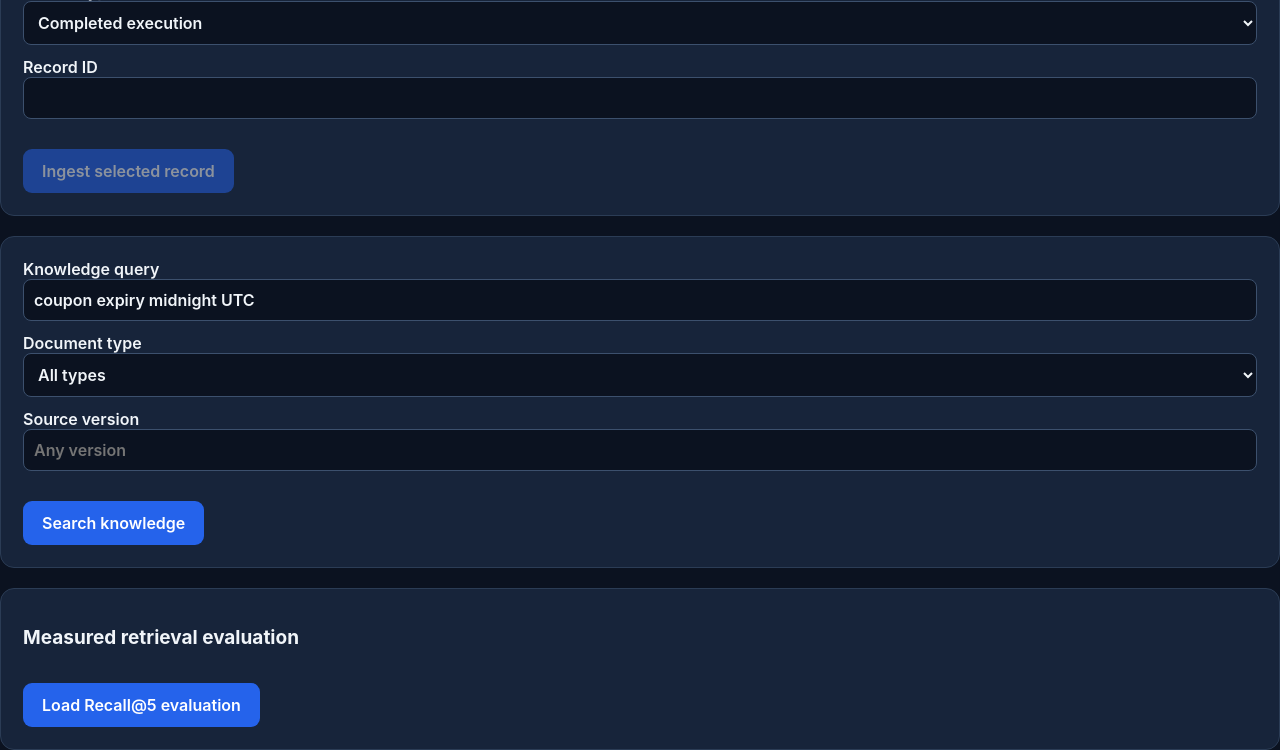
it: retrieval evaluation displays actual recall and precision
The width and height of the screenshot is (1280, 750).
(page scrolled)
Click the button "Load Recall@5 evaluation": (141, 705) [23,683,260,727]
(page scrolled)
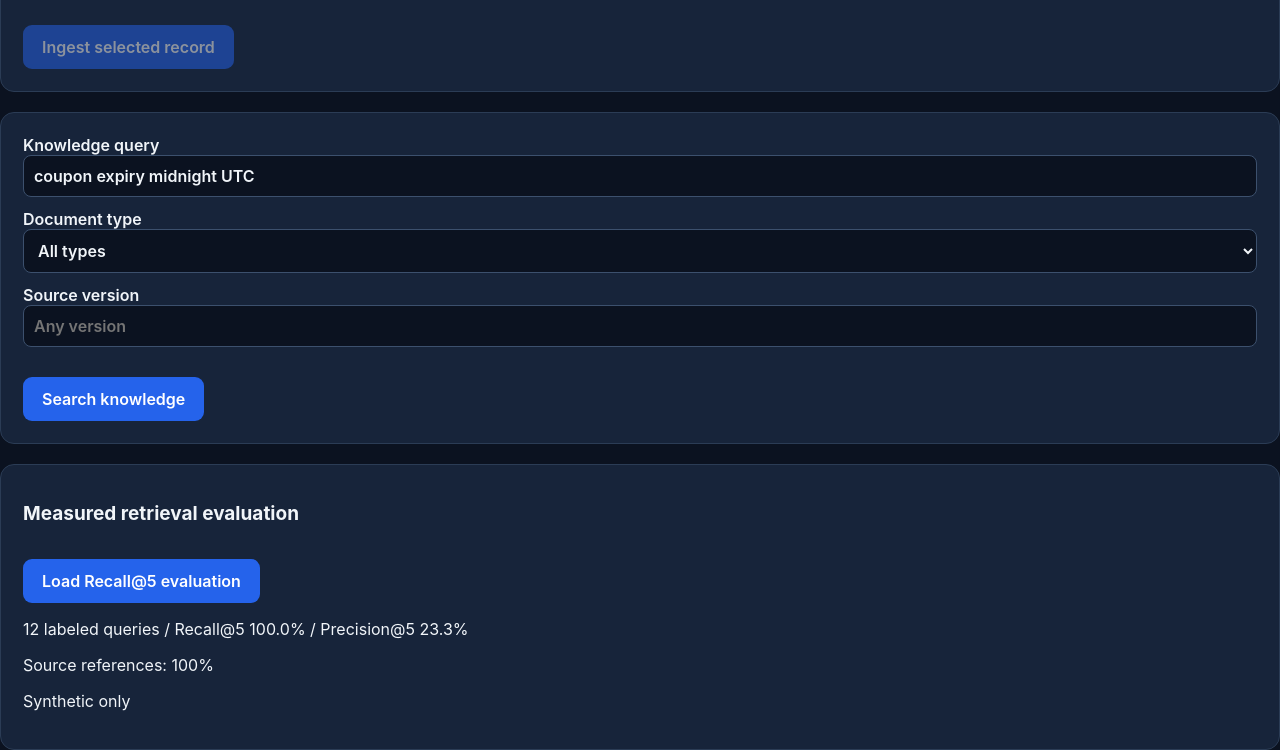
expect the text "12 labeled queries / Recall@5 100.0% / Precision@5 23.3%" is shown: met, box [23,619,469,639]
